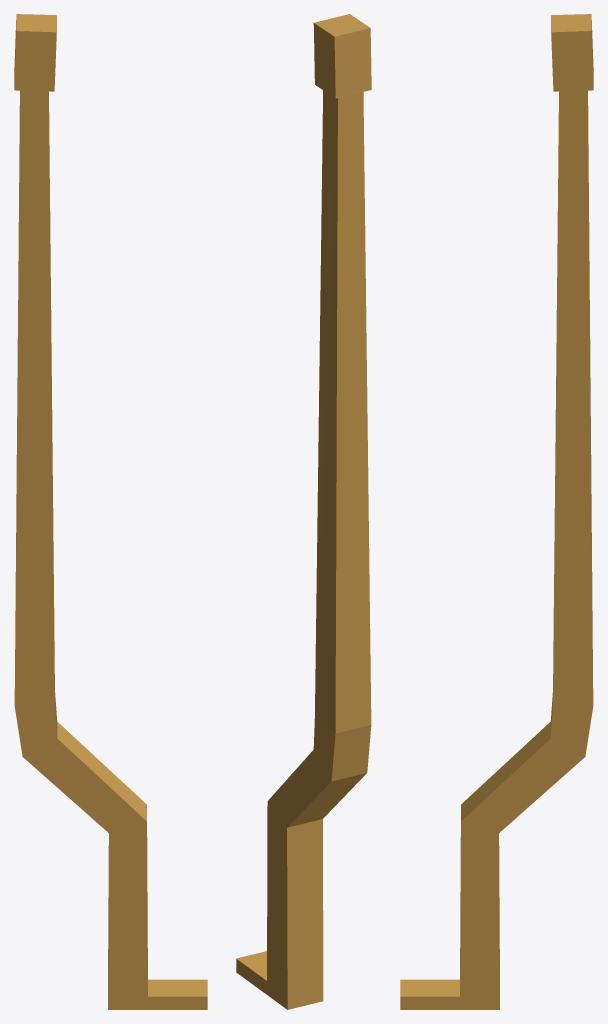
The model's file is rover-antenna.glb.
3 renders of one model, left to right at view 1: azimuth 90°, elevation 25°; view 2: azimuth 210°, elevation 25°; view 3: azimuth 270°, elevation 25°, orthographic. The views are drawn at different scales.
Bounding box in the file's own units: 0.614 × 16.4 × 2.94.
